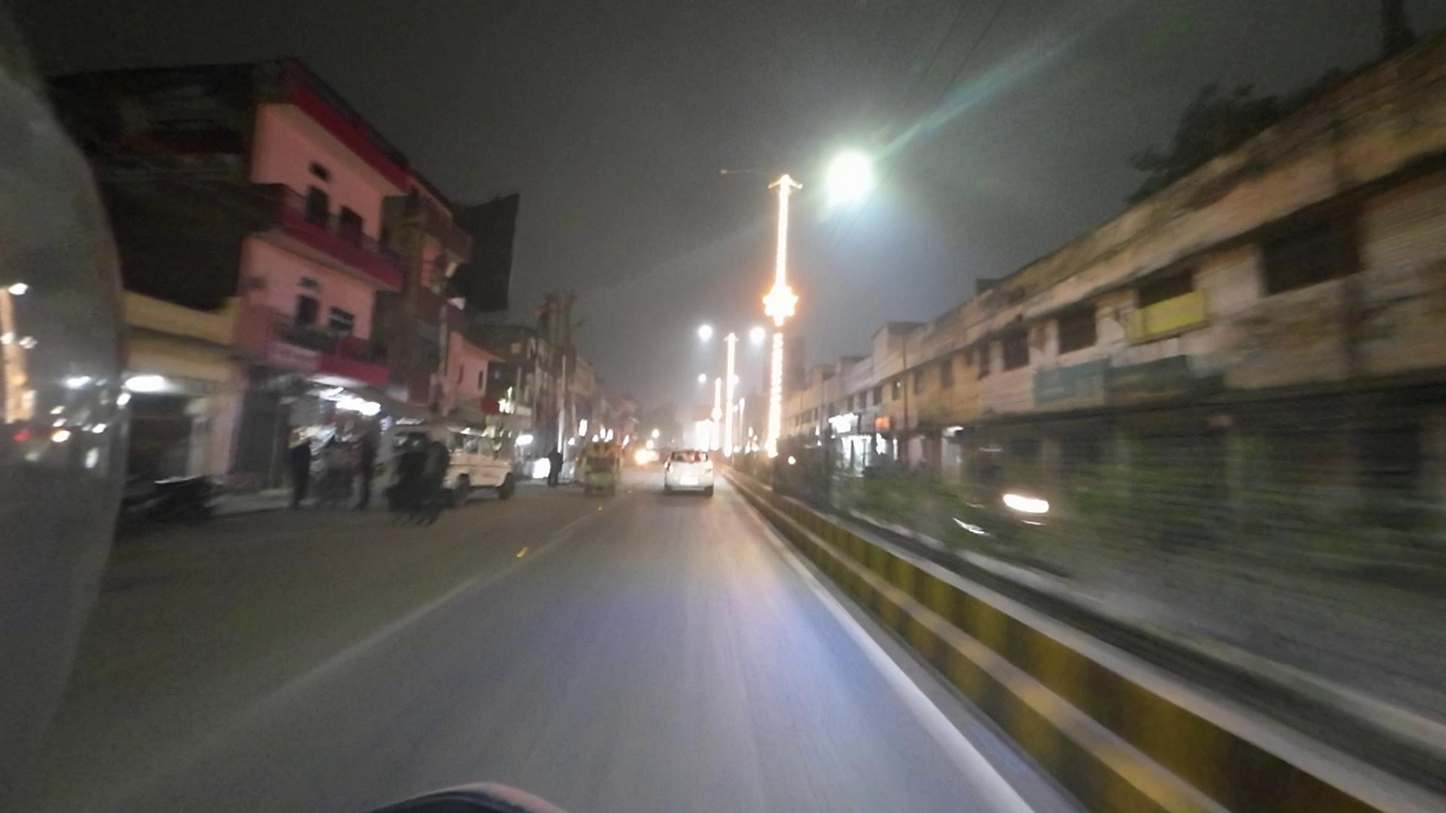streetlight: (714, 165, 771, 179)
